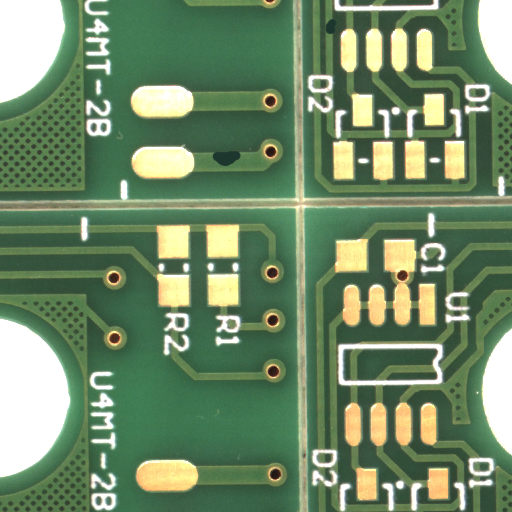Mouse_bite: (227, 158, 258, 173), (330, 26, 342, 40)
